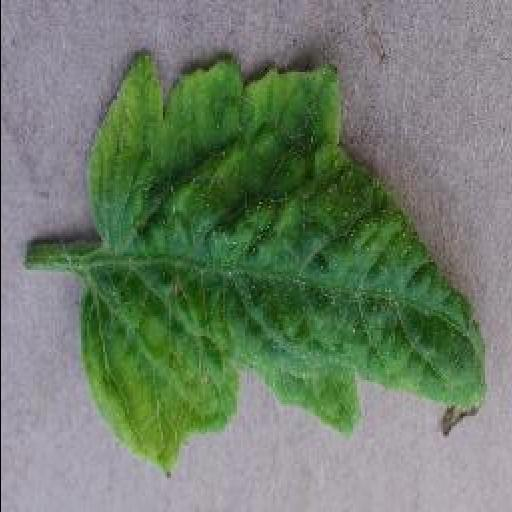disease_tomato: (76, 46, 490, 482)
